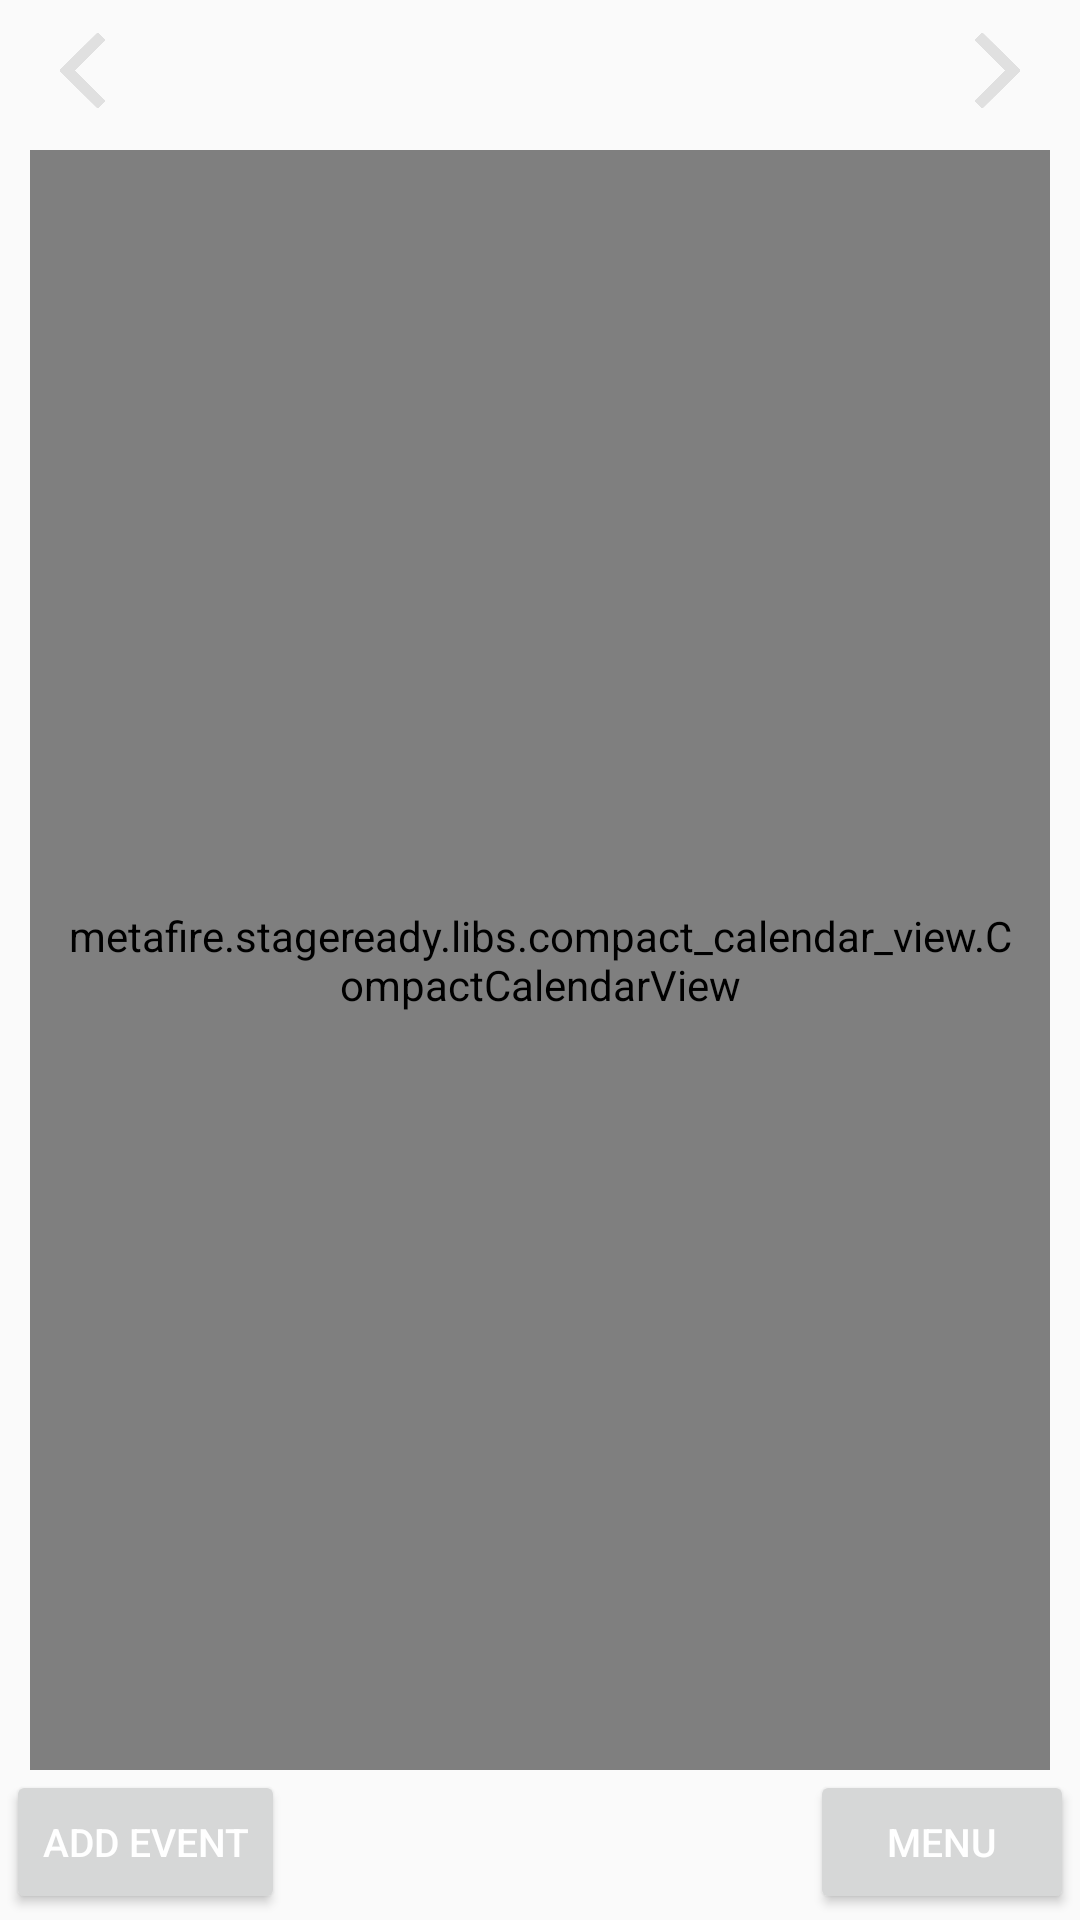

Icons on this 1080 × 1920 Android screen, each with its box as (x1, y1, x2, y2):
Left Arrow: (60, 33, 105, 108)
Right Arrow: (975, 33, 1020, 108)
